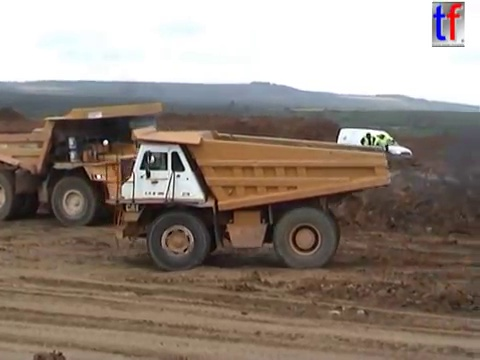truck: (102, 123, 393, 273), (1, 99, 169, 228)
worker: (359, 129, 377, 164), (373, 131, 391, 165)
